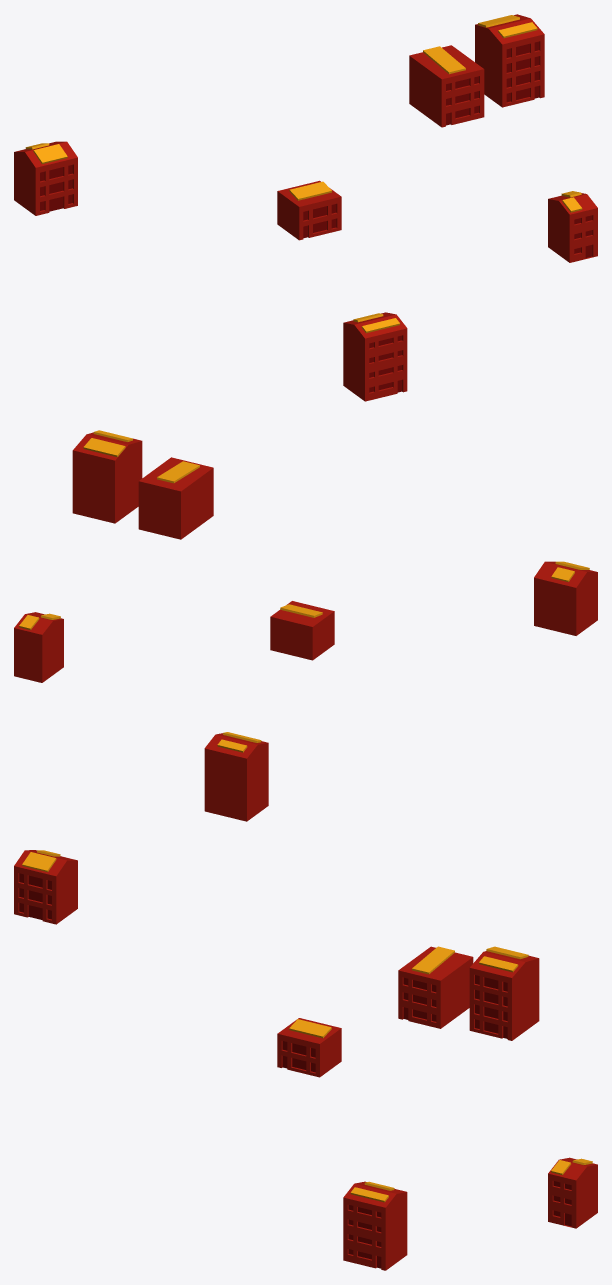
The model's file is BinaGrup10.gltf.
The picture shows the model from 3 angles, top to bottom: view 1: azimuth 30°, elevation 25°; view 2: azimuth 150°, elevation 25°; view 3: azimuth 330°, elevation 25°; orthographic projection.
Visible parts, largest first — view 1: Building_061.019, Building_072.017, Building_065.019, Building_023.019, Building_081.017, Building_052.019, Building_072.019, Building_065_RoofCap_0.004, Building_023.020, Building_065.020, Building_061.020; view 2: Building_072.017, Building_061.019, Building_065.019, Building_023.019, Building_081.017, Building_052.019; view 3: Building_072.017, Building_061.019, Building_065.019, Building_023.019, Building_081.017, Building_052.019, Building_072.019, Building_065_RoofCap_0.004, Building_023.020.
Part boxes in pixels (left/top/right/bottom): Building_061.019: left=343, top=312, right=407, bottom=401; Building_072.017: left=475, top=14, right=544, bottom=107; Building_065.019: left=409, top=45, right=484, bottom=127; Building_023.019: left=14, top=141, right=77, bottom=215; Building_081.017: left=548, top=193, right=597, bottom=262; Building_052.019: left=277, top=180, right=341, bottom=240; Building_072.019: left=506, top=41, right=539, bottom=102; Building_065_RoofCap_0.004: left=423, top=46, right=465, bottom=74; Building_023.020: left=40, top=165, right=72, bottom=210; Building_065.020: left=446, top=76, right=478, bottom=118; Building_061.020: left=369, top=335, right=401, bottom=392; Building_072.017: left=72, top=432, right=142, bottom=523; Building_061.019: left=204, top=733, right=268, bottom=821; Building_065.019: left=138, top=457, right=213, bottom=539; Building_023.019: left=534, top=561, right=597, bottom=635; Building_081.017: left=14, top=612, right=63, bottom=682; Building_052.019: left=270, top=601, right=334, bottom=660; Building_072.017: left=469, top=951, right=539, bottom=1040; Building_061.019: left=343, top=1181, right=407, bottom=1270; Building_065.019: left=398, top=946, right=473, bottom=1028; Building_023.019: left=14, top=850, right=77, bottom=924; Building_081.017: left=548, top=1157, right=597, bottom=1228; Building_052.019: left=277, top=1018, right=341, bottom=1077; Building_072.019: left=475, top=975, right=507, bottom=1033; Building_065_RoofCap_0.004: left=412, top=946, right=454, bottom=974; Building_023.020: left=19, top=873, right=51, bottom=919.
Bounding box in the file's own units: 0.6495 × 0.3705 × 0.0652.
